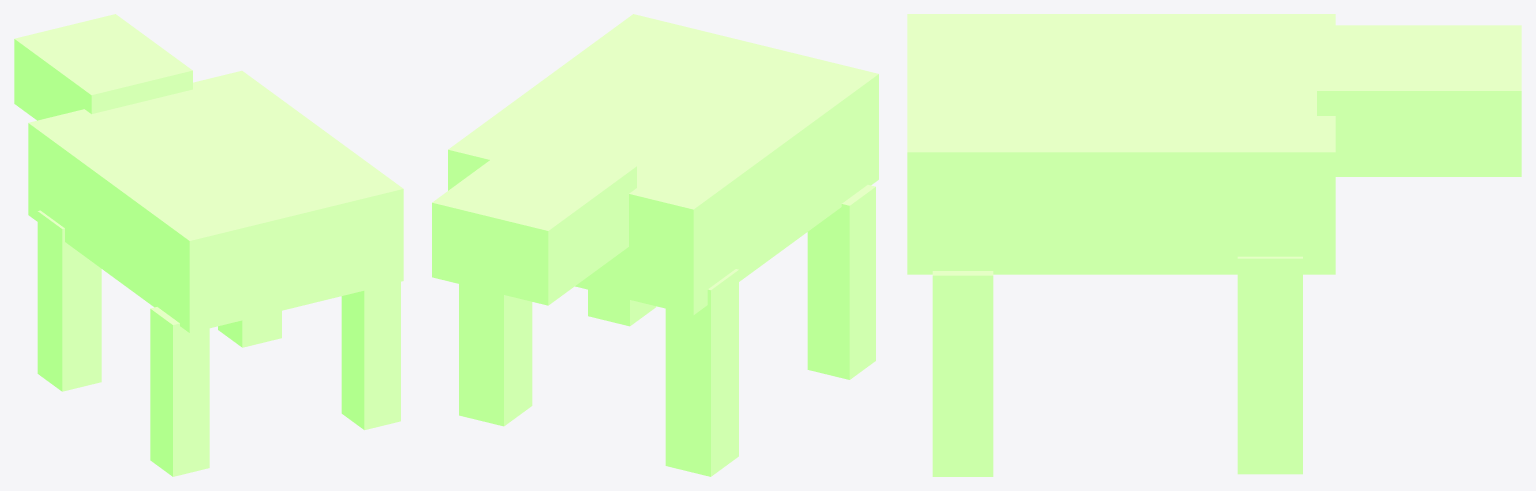
The model's file is venom-spitter.glb.
3 views of the same model, side by side, from view 1: azimuth 30°, elevation 25°; view 2: azimuth 150°, elevation 25°; view 3: azimuth 270°, elevation 25° (orthographic). The views are drawn at different scales.
Visible parts, largest first — view 1: body, head, front-left-leg, rear-left-leg, rear-right-leg, front-right-leg; view 2: body, head, front-left-leg, rear-left-leg, front-right-leg, rear-right-leg; view 3: body, head, front-right-leg, rear-right-leg.
Boxes of the visible parts, left/top/right/bottom form: body: left=28, top=70, right=403, bottom=332; head: left=14, top=14, right=192, bottom=120; front-left-leg: left=37, top=210, right=101, bottom=391; rear-left-leg: left=150, top=307, right=209, bottom=476; rear-right-leg: left=341, top=281, right=400, bottom=430; front-right-leg: left=218, top=311, right=281, bottom=347; body: left=448, top=14, right=878, bottom=315; head: left=432, top=138, right=636, bottom=305; front-left-leg: left=665, top=269, right=738, bottom=476; rear-left-leg: left=807, top=185, right=875, bottom=379; front-right-leg: left=459, top=284, right=532, bottom=426; rear-right-leg: left=588, top=289, right=656, bottom=326; body: left=907, top=14, right=1335, bottom=274; head: left=1317, top=25, right=1521, bottom=176; front-right-leg: left=1237, top=256, right=1302, bottom=474; rear-right-leg: left=932, top=271, right=993, bottom=476.
Size of the model in its own units: 0.81 by 0.8832 by 1.43.
